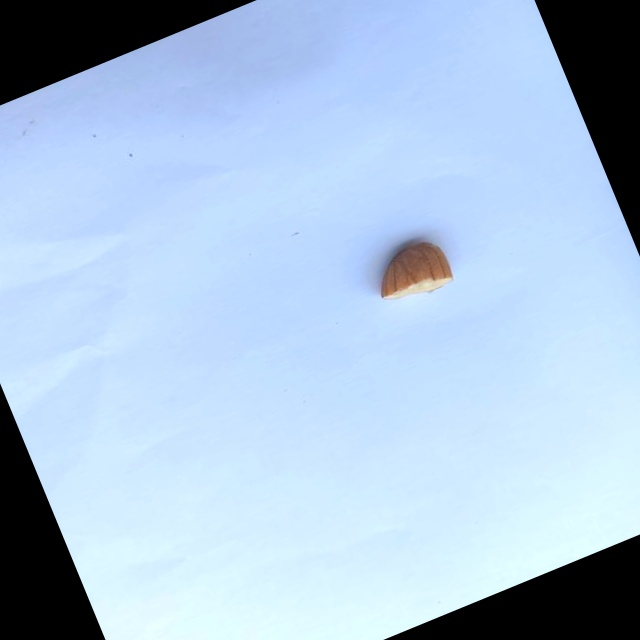grade4: (357, 225, 465, 318)
